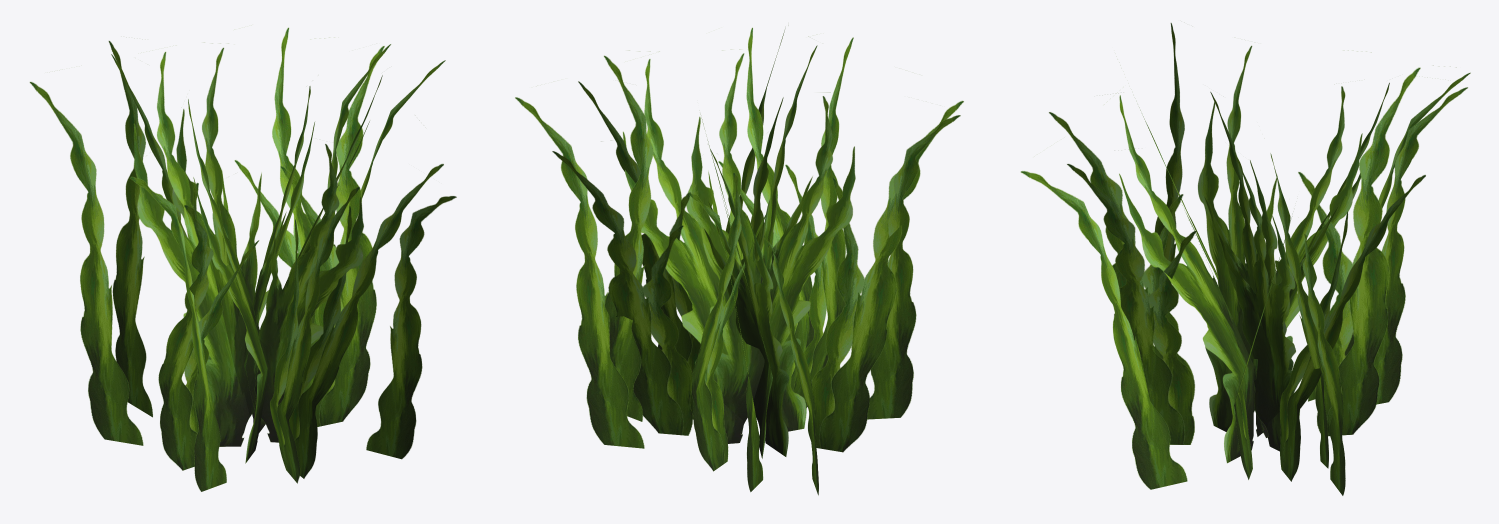
The model's file is seaweed.glb.
3 renders of one model, left to right at view 1: azimuth 30°, elevation 25°; view 2: azimuth 150°, elevation 25°; view 3: azimuth 270°, elevation 25°, orthographic.
Visible parts, largest first — view 1: pPlane7_sw02mat_0; view 2: pPlane7_sw02mat_0; view 3: pPlane7_sw02mat_0.
Boxes of the visible parts, x1,y1,x2,y2 form: pPlane7_sw02mat_0: (29,27,456,491); pPlane7_sw02mat_0: (515,27,963,495); pPlane7_sw02mat_0: (1020,23,1470,495).
Size of the model in its own units: 1.29 by 1.13 by 1.3.
1 material, 1 textured.
